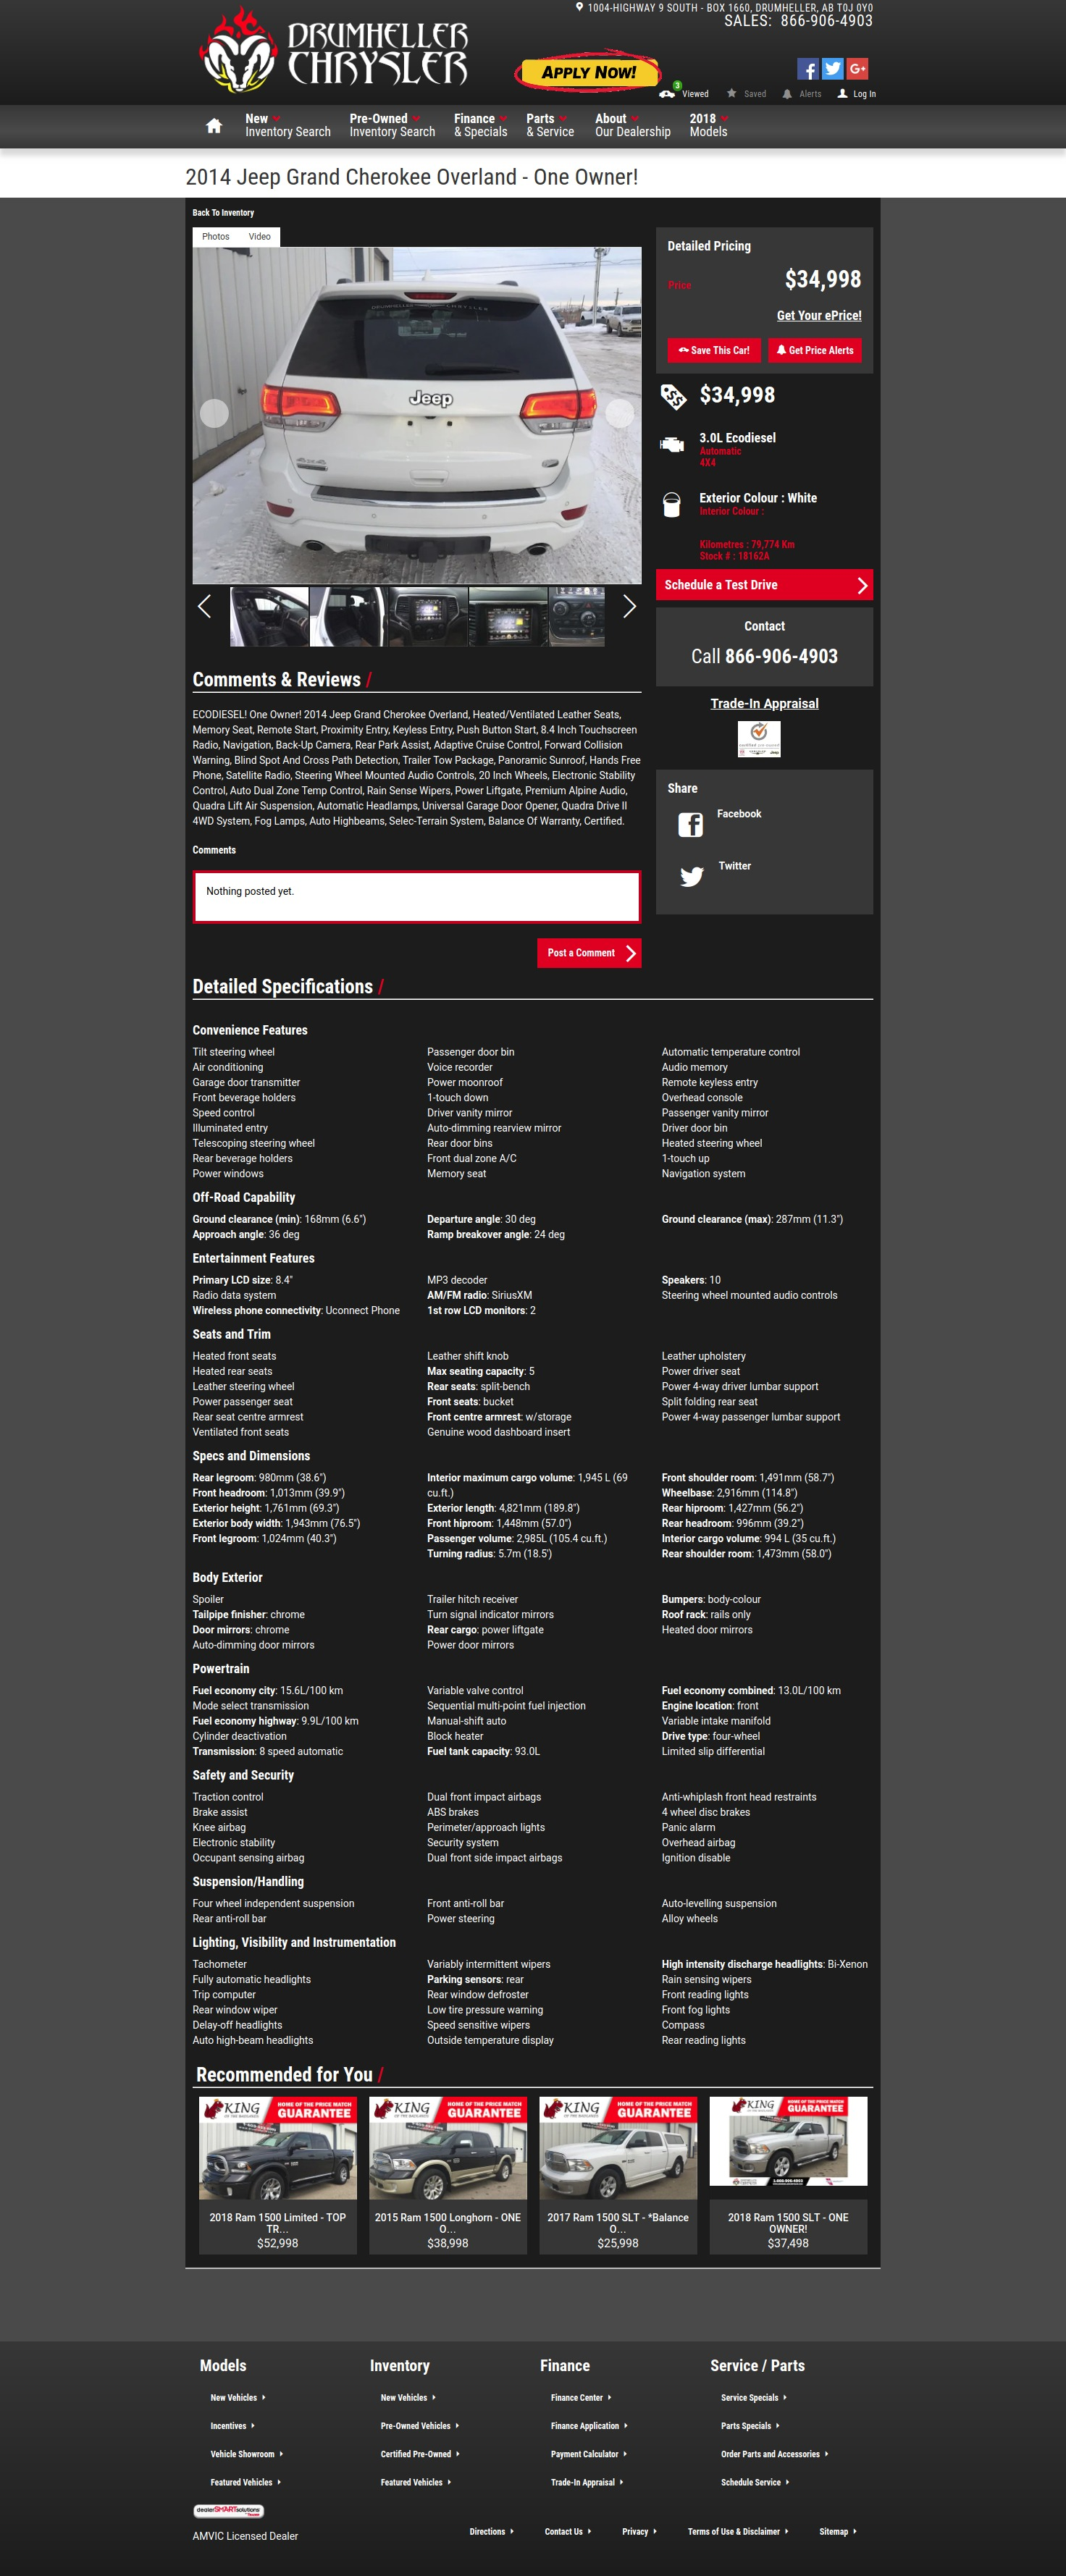car: (621, 595, 639, 618)
